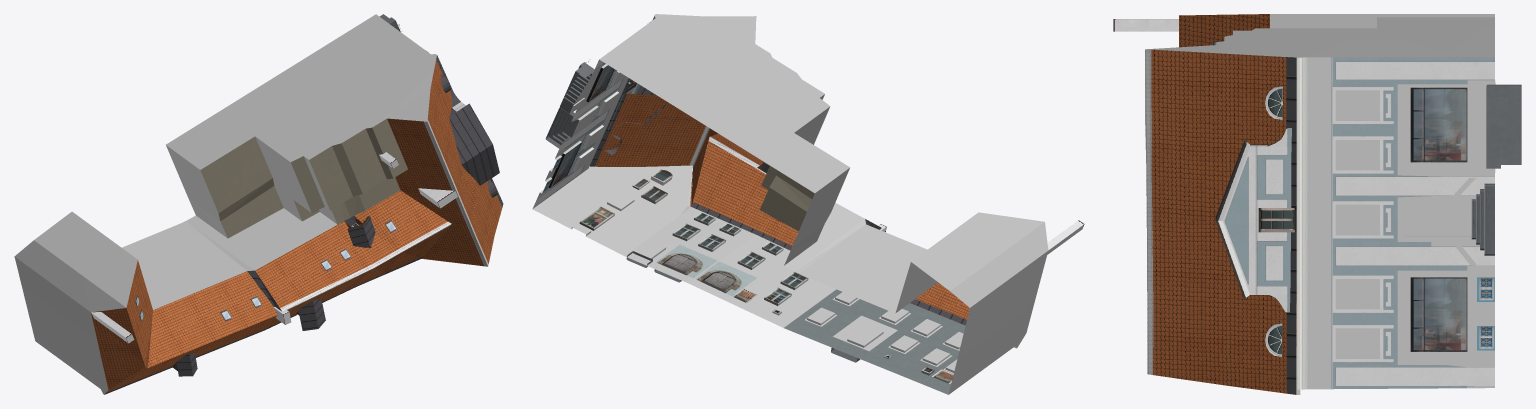
The model's file is Dunkri_2.obj.
3 renders of one model, left to right at view 1: azimuth 30°, elevation 25°; view 2: azimuth 150°, elevation 25°; view 3: azimuth 270°, elevation 25°, orthographic. The views are drawn at different scales.
Parts seen in each view (by area): view 1: Dunkri_2; view 2: Dunkri_2; view 3: Dunkri_2.
Part boxes in pixels (<box>): Dunkri_2: <box>14,14,503,394</box>; Dunkri_2: <box>532,14,1084,394</box>; Dunkri_2: <box>1113,14,1521,394</box>.
Size of the model in its own units: 39.69 by 21.95 by 19.09.
